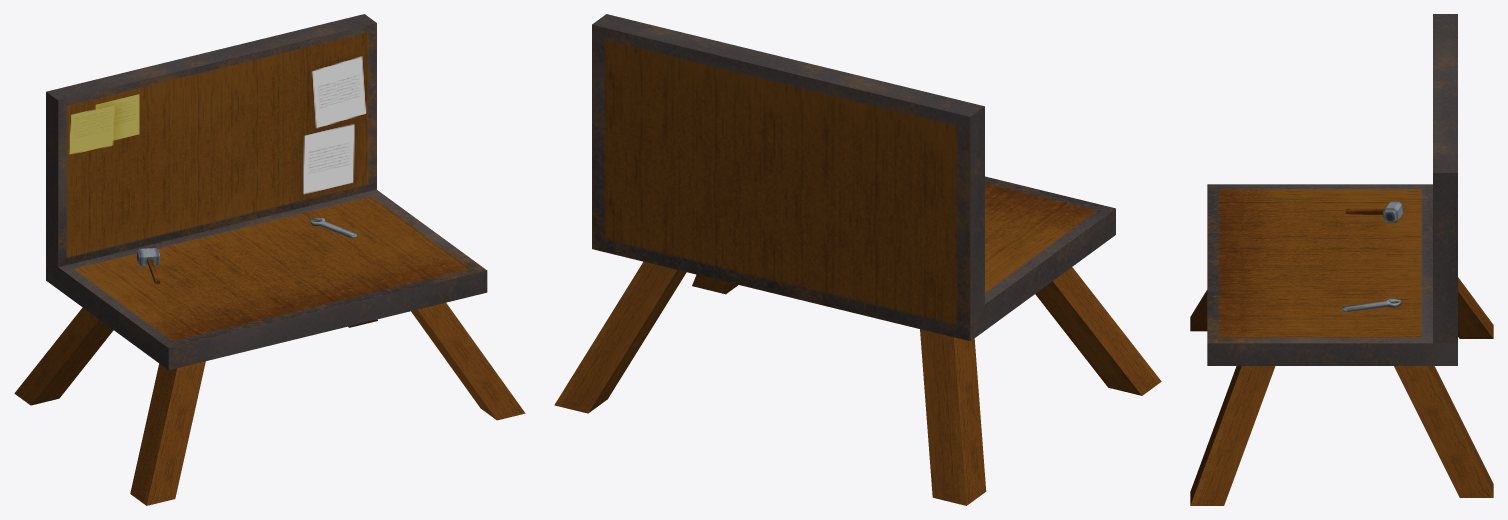
File: Research Bench.fbx
3 views of the same model, side by side, from view 1: azimuth 30°, elevation 25°; view 2: azimuth 150°, elevation 25°; view 3: azimuth 270°, elevation 25° (orthographic). The views are drawn at different scales.
Parts seen in each view (by area): view 1: Research Table, Hamme and Wrench; view 2: Research Table; view 3: Research Table, Hamme and Wrench.
Part boxes in pixels (x1,y1,x2,y2): Research Table: (14,14,525,505); Hamme and Wrench: (136,217,356,284); Research Table: (554,14,1161,505); Research Table: (1190,14,1493,505); Hamme and Wrench: (1342,201,1403,311).
Bounding box in the file's own units: 714 × 560 × 484.
